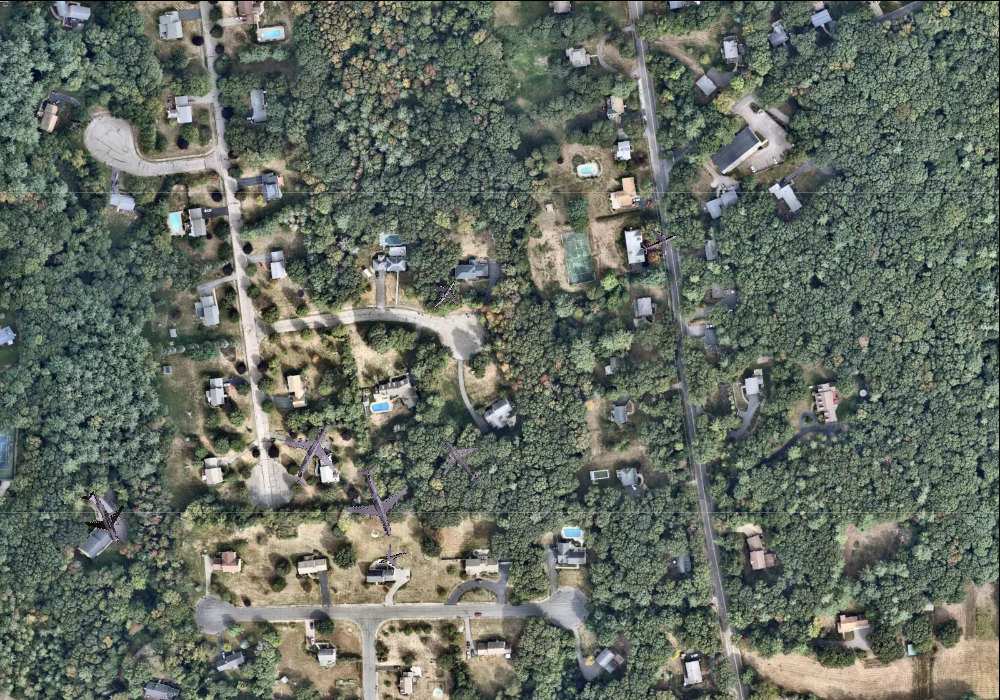plane: (332, 455, 422, 547), (268, 411, 354, 498), (66, 480, 139, 557), (426, 424, 495, 493), (636, 220, 682, 265), (422, 271, 467, 316), (374, 539, 412, 576)
